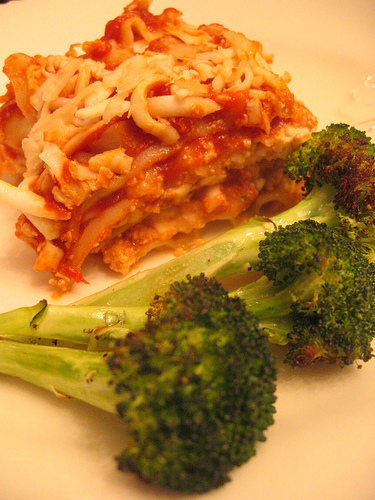broccoli: (1, 272, 280, 496), (48, 121, 373, 305), (0, 217, 373, 366)
